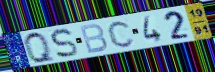2: (163, 9, 194, 43)
4: (143, 15, 164, 43)
B: (78, 22, 109, 55)
C: (107, 20, 137, 49)
Q: (22, 30, 57, 64)
S: (49, 28, 80, 60)
